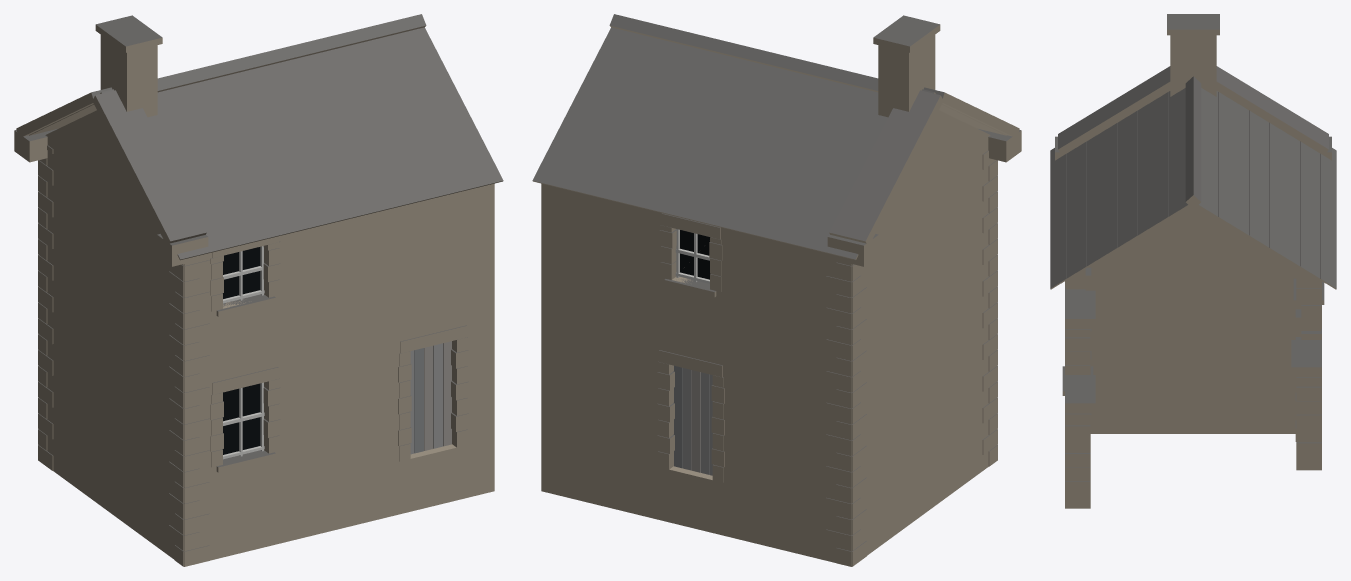
Rendered from context.dales.house_05.glb.
3 views of the same model, side by side, from view 1: azimuth 30°, elevation 25°; view 2: azimuth 150°, elevation 25°; view 3: azimuth 270°, elevation 25° (orthographic). The views are drawn at different scales.
Parts seen in each view (by area): view 1: main__stone_a98, main__slate_666, main__glass_dark, main__paint_998, main__paint_ccc, main__paint_999, main__paint_888; view 2: main__stone_a98, main__slate_666, main__paint_999, main__glass_dark, main__paint_998, main__paint_888, main__paint_ccc; view 3: main__stone_a98, main__slate_666.
Part boxes in pixels (box(x1,y1,x2,y2)): main__stone_a98: box(14, 25, 502, 566); main__slate_666: box(15, 14, 503, 551); main__glass_dark: box(222, 247, 260, 454); main__paint_998: box(424, 341, 452, 450); main__paint_ccc: box(223, 246, 264, 459); main__paint_999: box(410, 343, 442, 454); main__paint_888: box(414, 348, 423, 453); main__stone_a98: box(533, 25, 1021, 566); main__slate_666: box(532, 14, 1020, 551); main__paint_999: box(682, 368, 712, 475); main__glass_dark: box(680, 230, 710, 279); main__paint_998: box(691, 370, 700, 472); main__paint_888: box(673, 365, 682, 468); main__paint_ccc: box(675, 229, 709, 283); main__stone_a98: box(1050, 29, 1336, 508); main__slate_666: box(1050, 14, 1336, 481).
Size of the model in its own units: 6.51 by 9.06 by 5.6.
